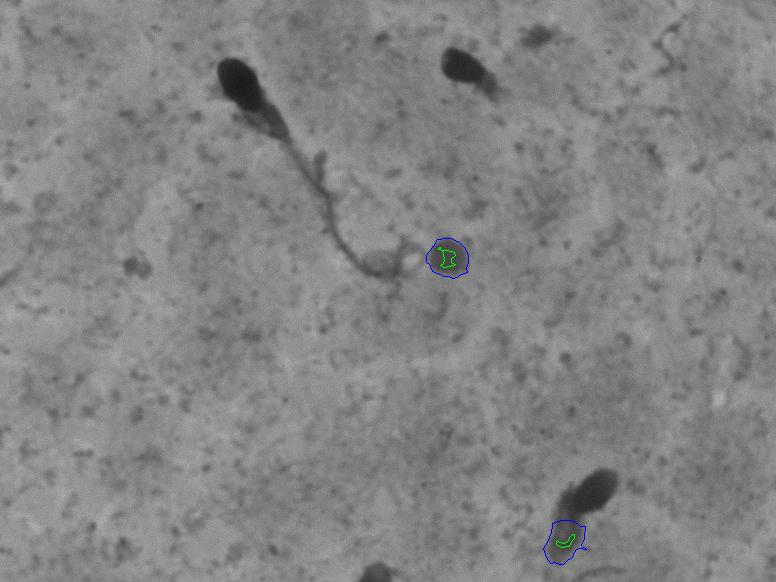Abnormal: (193, 53, 396, 346), (420, 14, 529, 156)
